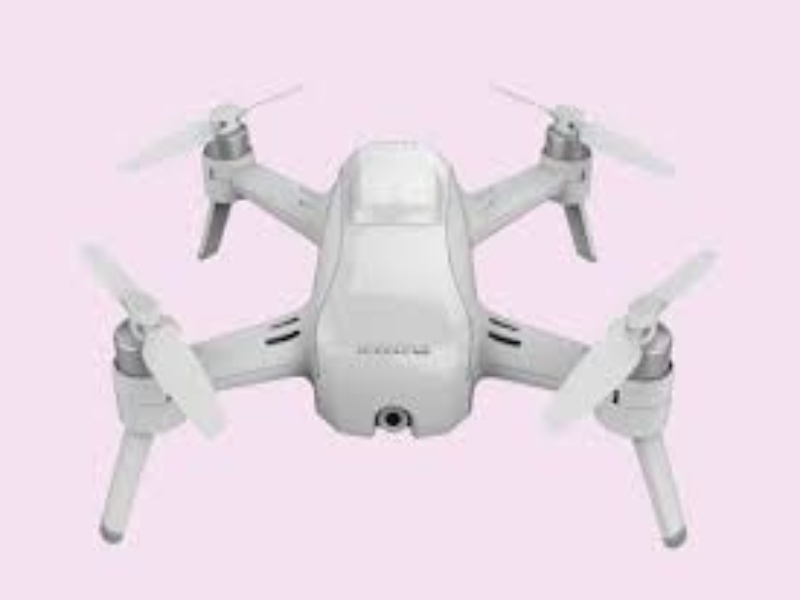drone: (70, 65, 737, 549)
